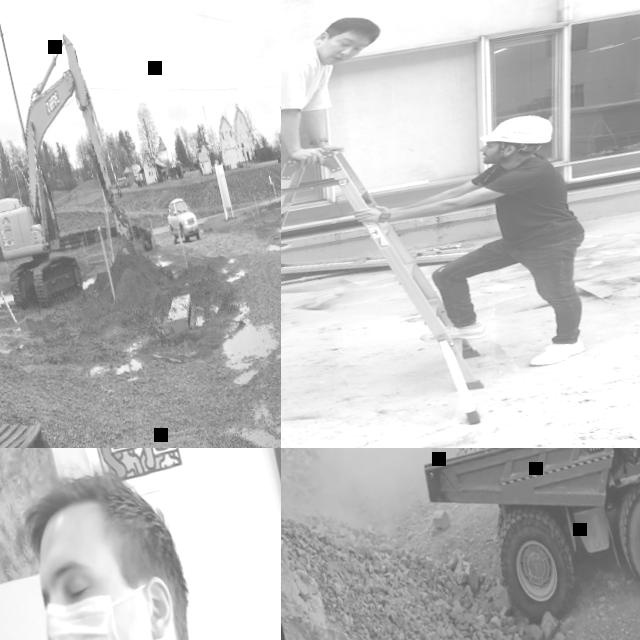Hardhat: (477, 109, 555, 155)
Mask: (39, 573, 195, 640)
NO-Hardhat: (22, 462, 175, 575), (329, 10, 382, 50)
NO-Mask: (321, 46, 351, 66), (479, 145, 507, 165)
NO-Safety Vest: (473, 149, 578, 248), (281, 40, 330, 152)
Person: (338, 106, 611, 397), (0, 448, 281, 640), (281, 9, 420, 270)
machinery: (0, 17, 163, 318), (387, 448, 640, 640)
vehicle: (162, 193, 200, 244)
